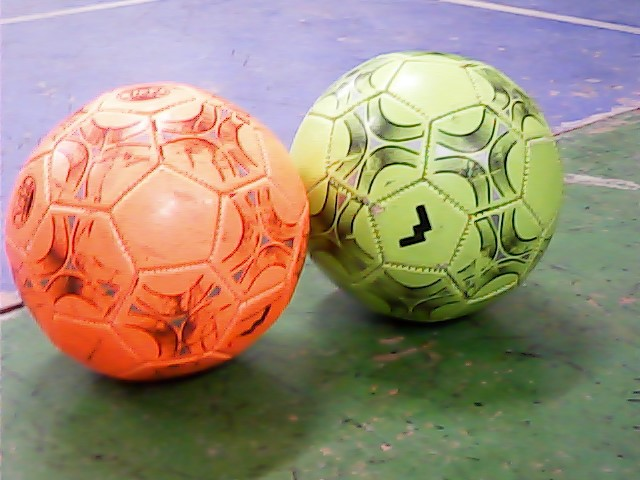Green_ball: (288, 26, 564, 322)
Orange_ball: (4, 64, 309, 382)
